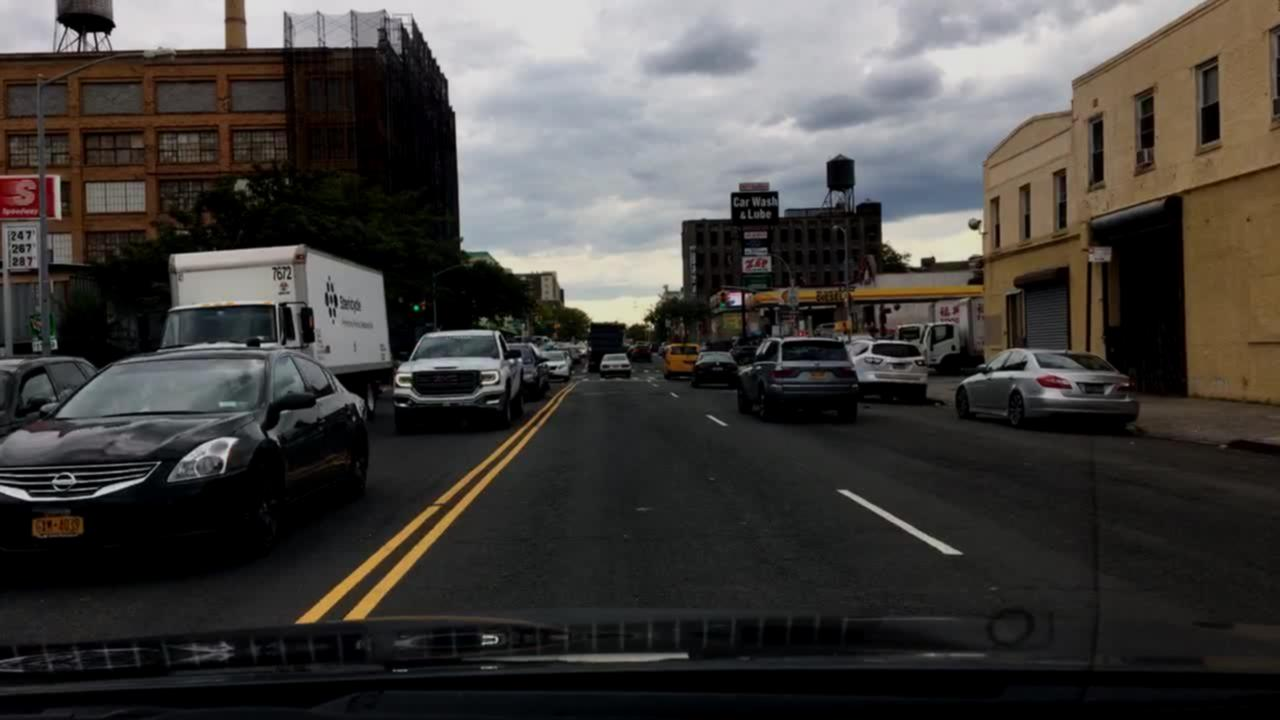GMC: (429, 371, 462, 389)
Nissan: (51, 470, 77, 493)
